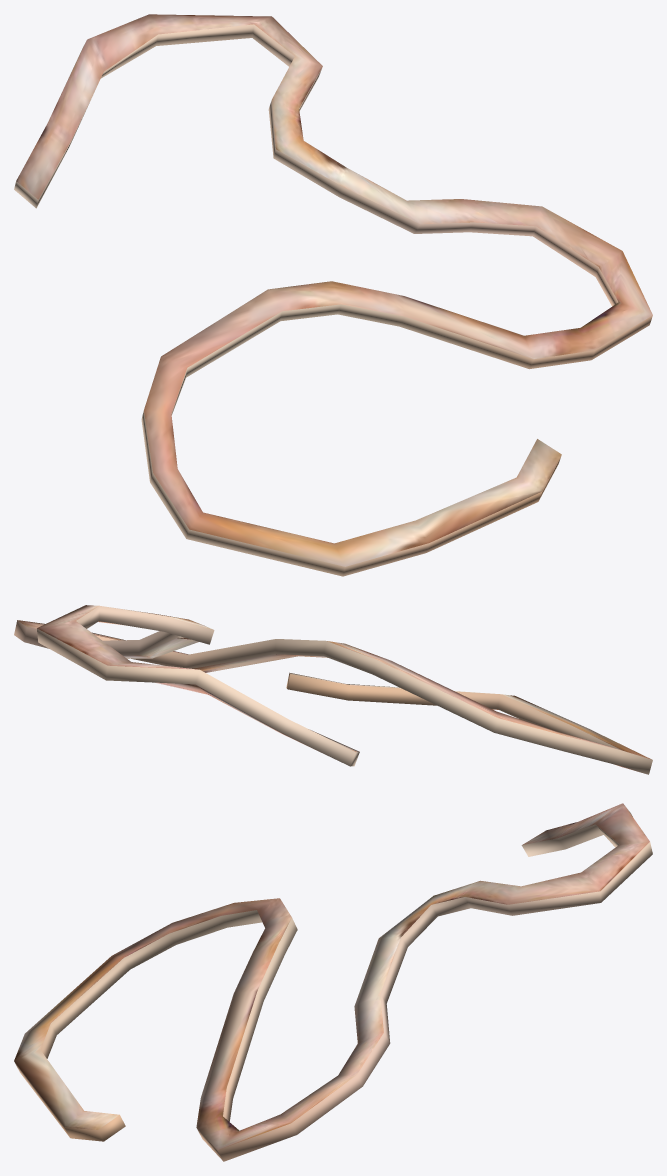
Rendered from tapeworm.FBX.
The picture shows the model from 3 angles, top to bottom: view 1: azimuth 30°, elevation 25°; view 2: azimuth 150°, elevation 25°; view 3: azimuth 270°, elevation 25°; orthographic projection. The views are drawn at different scales.
Visible parts, largest first — view 1: tapeworm; view 2: tapeworm; view 3: tapeworm.
Boxes of the visible parts, <box> form: tapeworm: <box>14,14,652,576</box>; tapeworm: <box>14,605,652,774</box>; tapeworm: <box>14,803,652,1161</box>.
Bounding box in the file's own units: 19 × 9.87 × 21.12.
